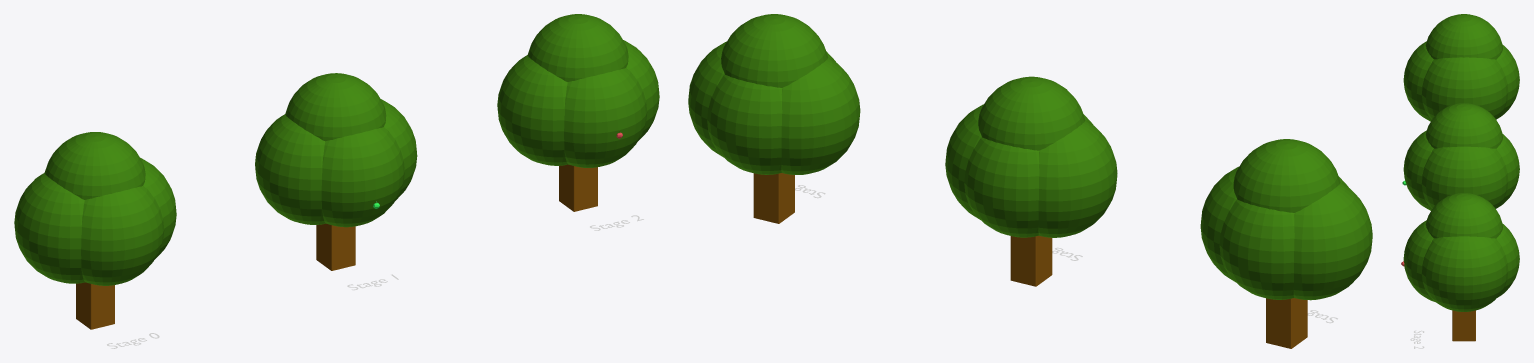
File: AppleTree.fbx
3 views of the same model, side by side, from view 1: azimuth 30°, elevation 25°; view 2: azimuth 150°, elevation 25°; view 3: azimuth 270°, elevation 25° (orthographic). The views are drawn at different scales.
Visible parts, largest first — view 1: Sphere.015, Sphere.001; view 2: Sphere.015, Sphere.001; view 3: Sphere.015, Sphere.001, Text.002.
Boxes of the visible parts, x1,y1,x2,y2 form: Sphere.015: [255, 14, 659, 270]; Sphere.001: [14, 132, 176, 329]; Sphere.015: [688, 14, 1117, 286]; Sphere.001: [1200, 139, 1372, 348]; Sphere.015: [1403, 103, 1519, 341]; Sphere.001: [1403, 14, 1519, 121]; Text.002: [1410, 330, 1424, 348].
Size of the model in its own units: 1718 by 481 by 370.
